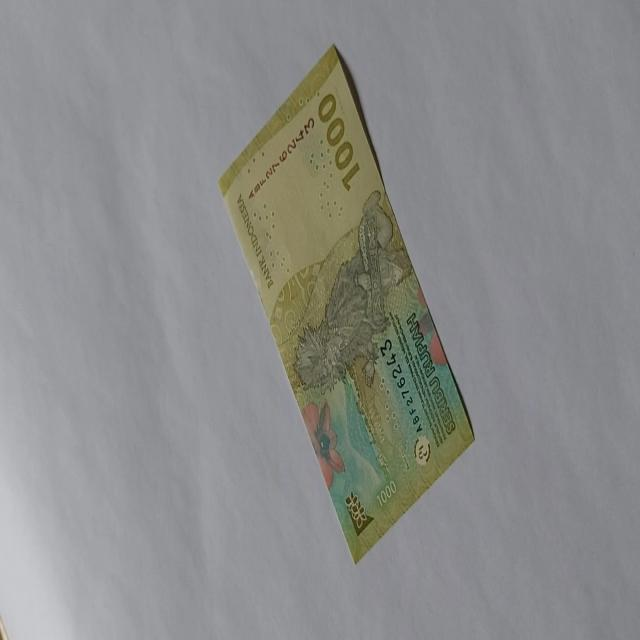seribu rupiah kertas: (218, 43, 476, 564)
